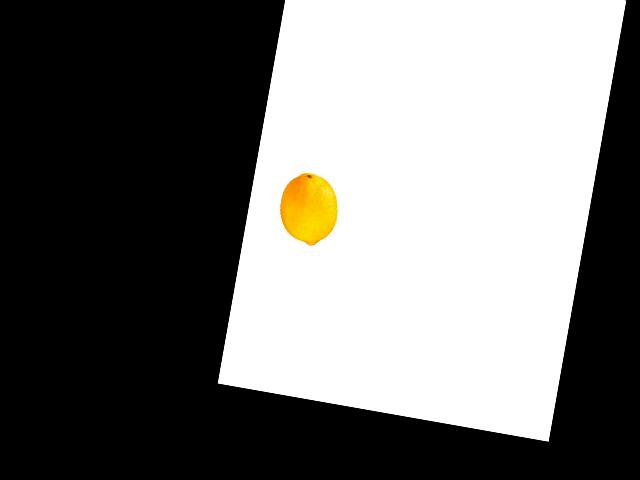lemon: (273, 168, 346, 250)
